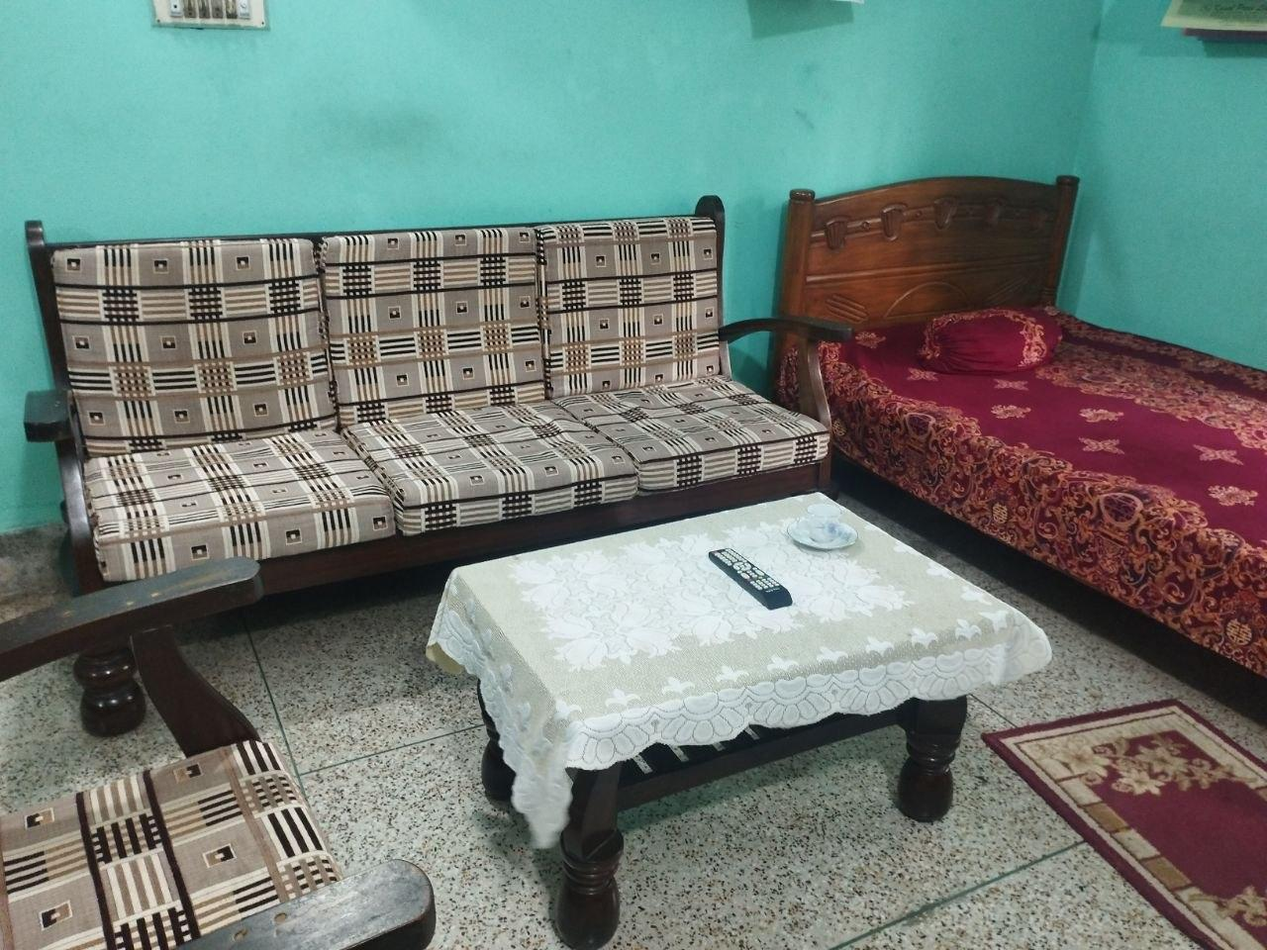Cup: (759, 494, 880, 565)
Floor Mat: (974, 671, 1267, 950)
Pillow: (902, 291, 1062, 373)
Remote: (703, 533, 800, 613)
Table: (405, 485, 1036, 950)
